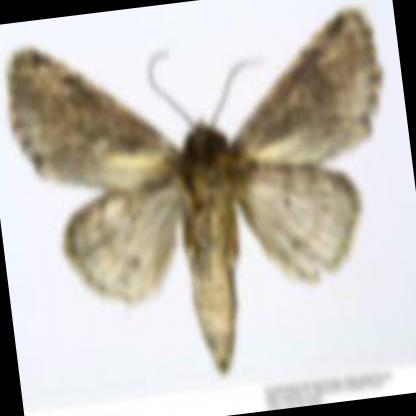Leaf Webber: (4, 2, 386, 381)
